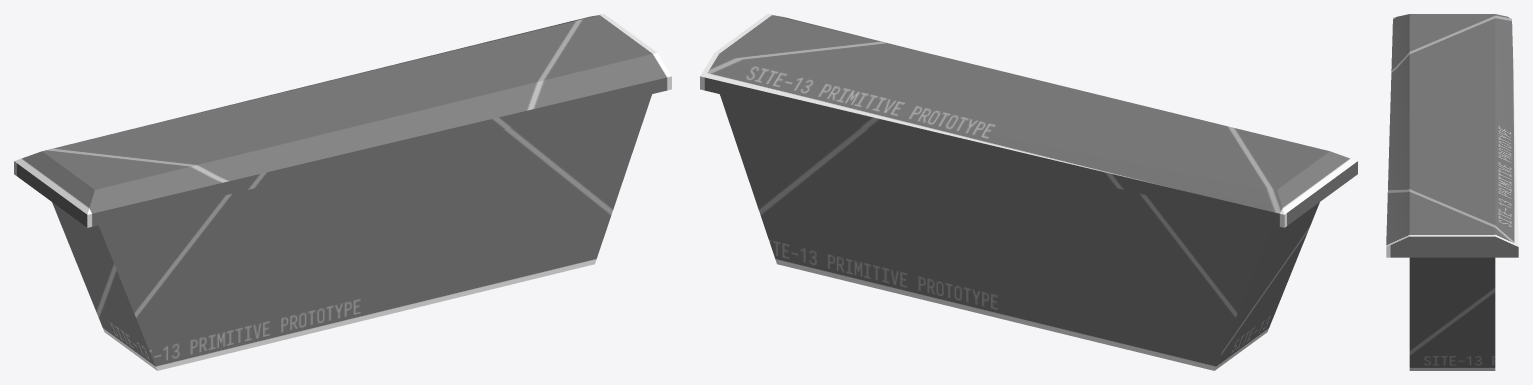
File: Foundation-Standard-Marksman-Rifle-Mag.obj
3 renders of one model, left to right at view 1: azimuth 30°, elevation 25°; view 2: azimuth 150°, elevation 25°; view 3: azimuth 270°, elevation 25°, orthographic. The views are drawn at different scales.
Visible parts, largest first — view 1: Foundation-Standard-Marksman-Rifle-Mag; view 2: Foundation-Standard-Marksman-Rifle-Mag; view 3: Foundation-Standard-Marksman-Rifle-Mag.
Part boxes in pixels (left/top/right/bottom): Foundation-Standard-Marksman-Rifle-Mag: left=14, top=14, right=671, bottom=370; Foundation-Standard-Marksman-Rifle-Mag: left=700, top=14, right=1357, bottom=370; Foundation-Standard-Marksman-Rifle-Mag: left=1386, top=14, right=1518, bottom=370.
Size of the model in its own units: 2.32 by 0.7502 by 0.5667.
